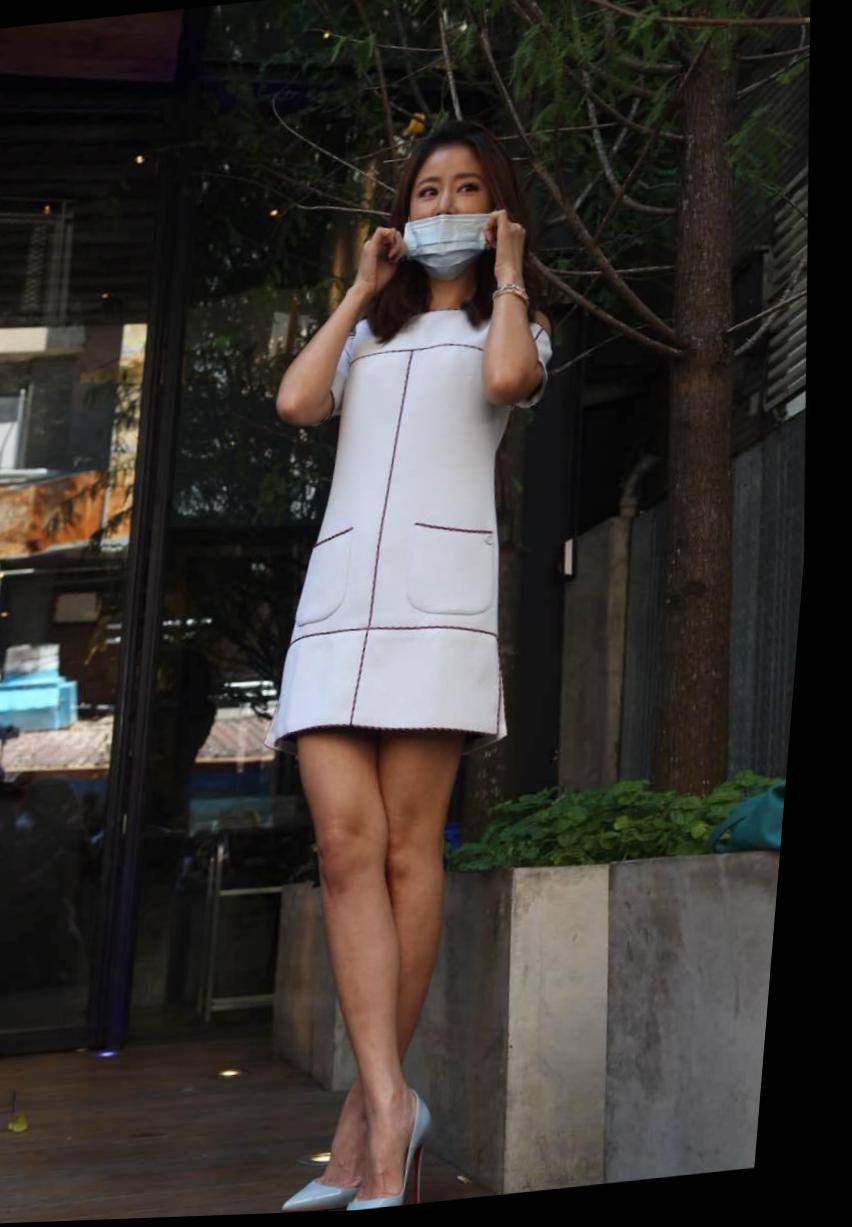WRONG: (401, 162, 505, 278)
